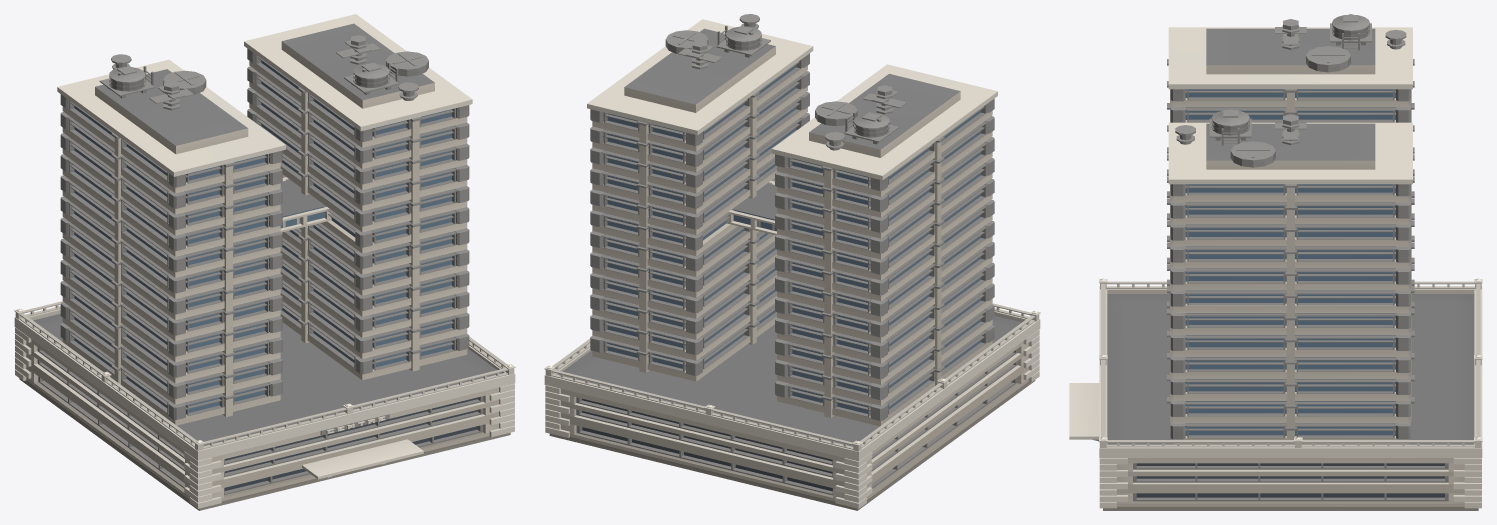
The model's file is building-tower-twin-near.glb.
The picture shows the model from 3 angles, left to right: view 1: azimuth 30°, elevation 25°; view 2: azimuth 150°, elevation 25°; view 3: azimuth 270°, elevation 25°; orthographic projection. The views are drawn at different scales.
Visible parts, largest first — view 1: Building; view 2: Building; view 3: Building.
Boxes of the visible parts, x1,y1,x2,y2 form: Building: [14, 14, 515, 510]; Building: [544, 14, 1040, 510]; Building: [1069, 14, 1482, 510].
Bounding box in the file's own units: 1.02 × 1.06 × 1.1.
